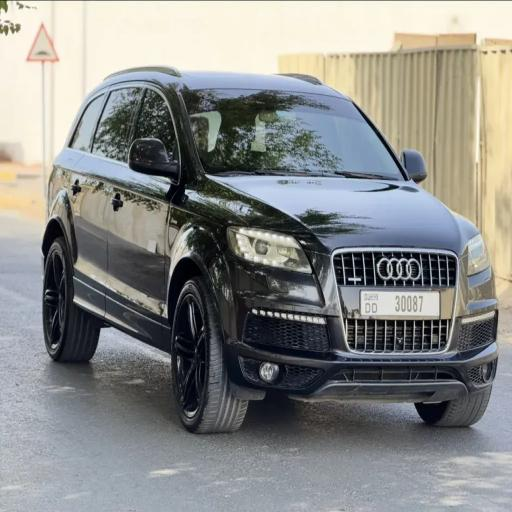license-plates: (360, 290, 440, 316)
